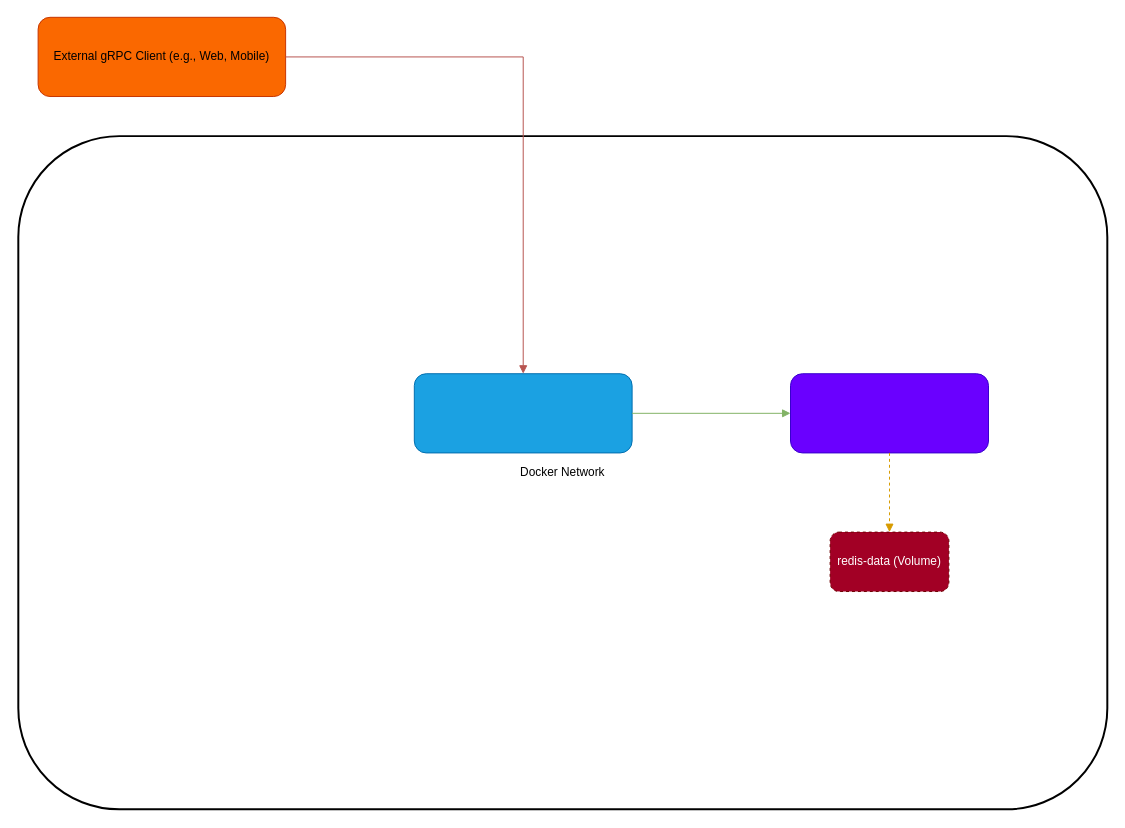
Image size: 1125x828. Some labels were removed from this diagram. Here are the shapes that lost their labels. From the top down, the centre of each, then its label:
the point at 522,413: discount-server (gRPC Server)
the point at 889,413: redis (Persistent DB)
